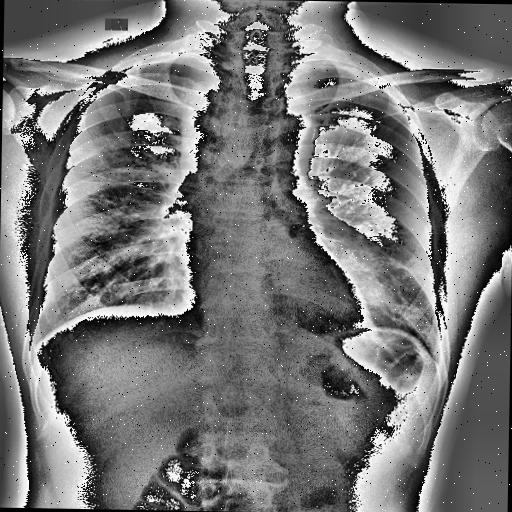4- Consolidation: (305, 210, 429, 334)
6- Infiltration: (312, 226, 400, 314), (327, 224, 397, 316)
7- Lung Opacity: (312, 226, 400, 314), (180, 90, 230, 198)
